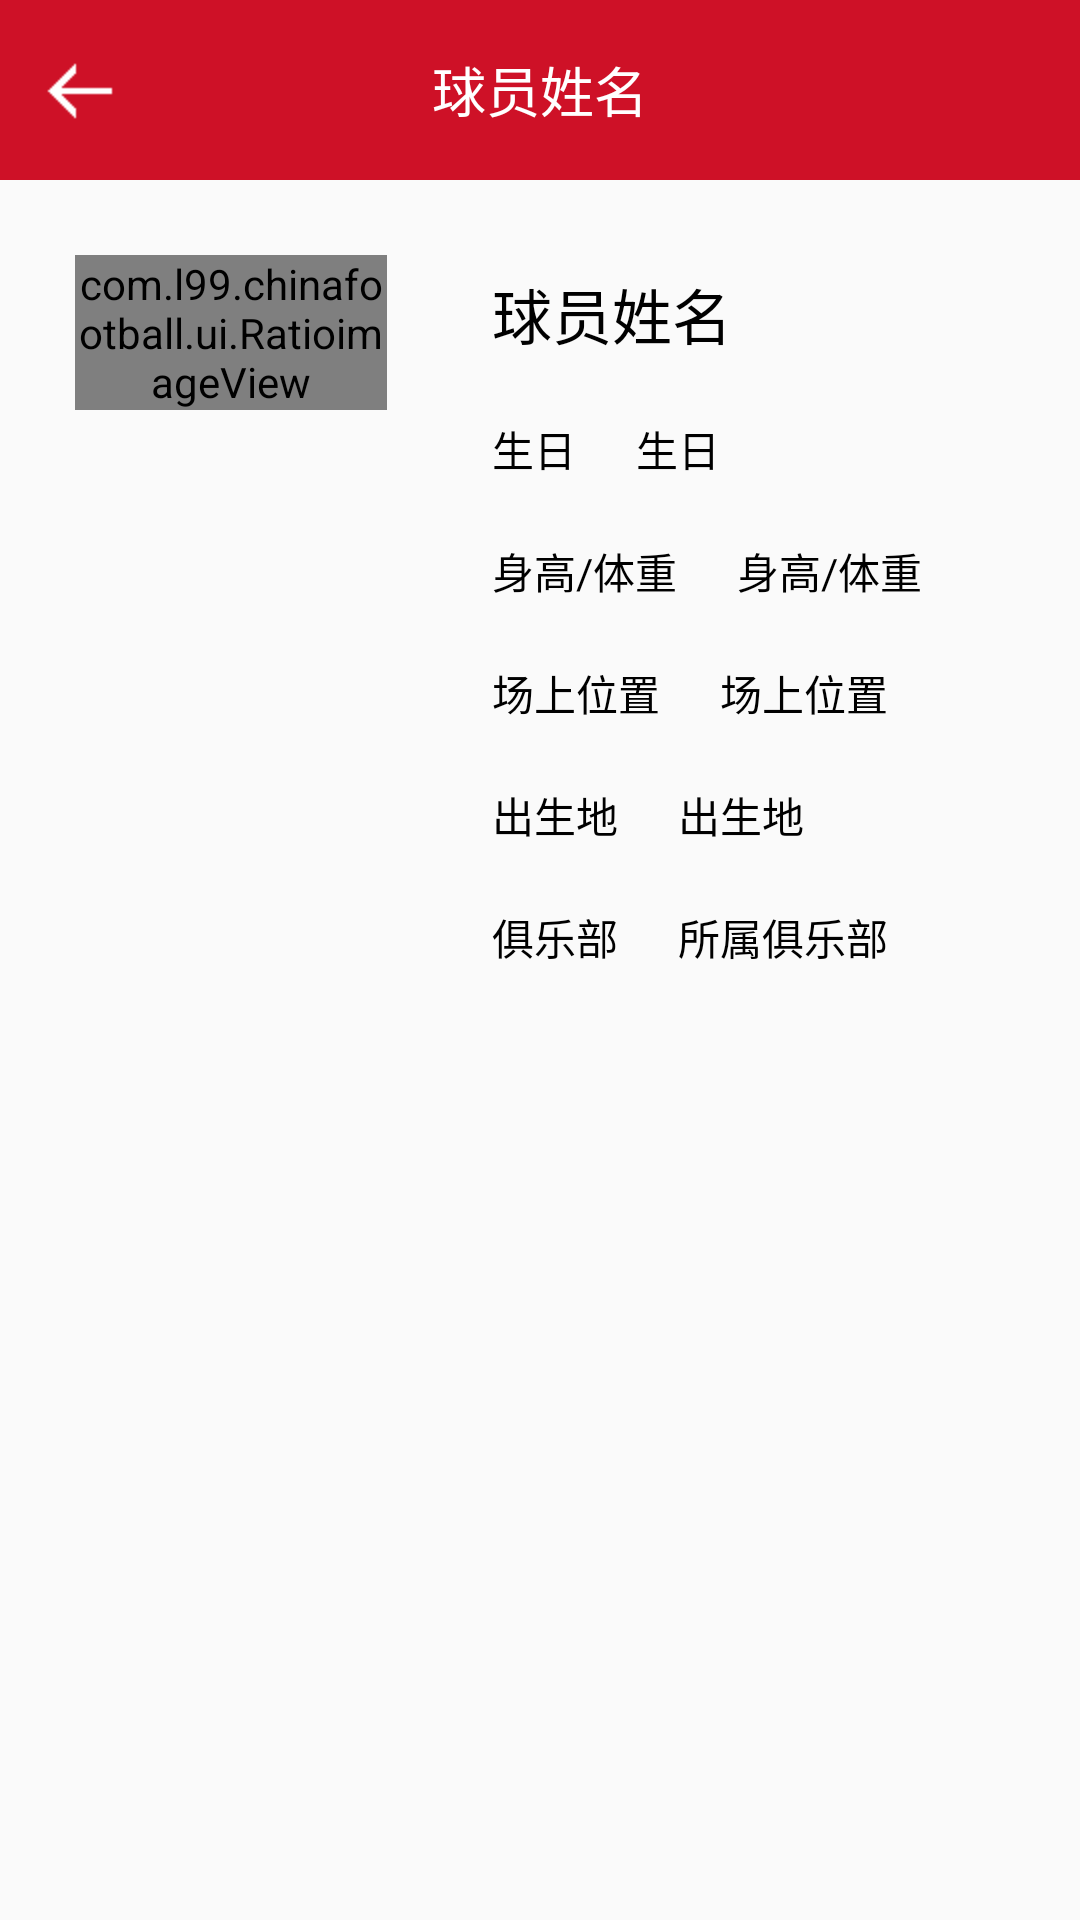

Icons on this 1080 × 1920 Android screen, each with the point to tap as (x,y):
back: (80,91)
